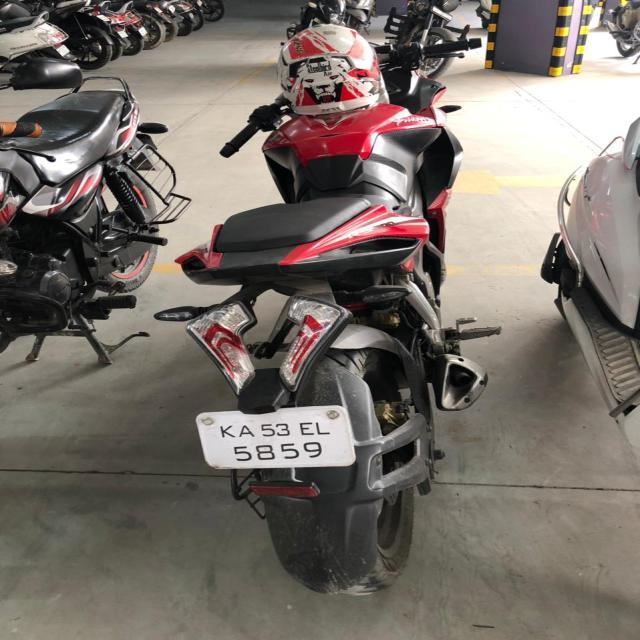license_plate: (194, 404, 357, 470)
